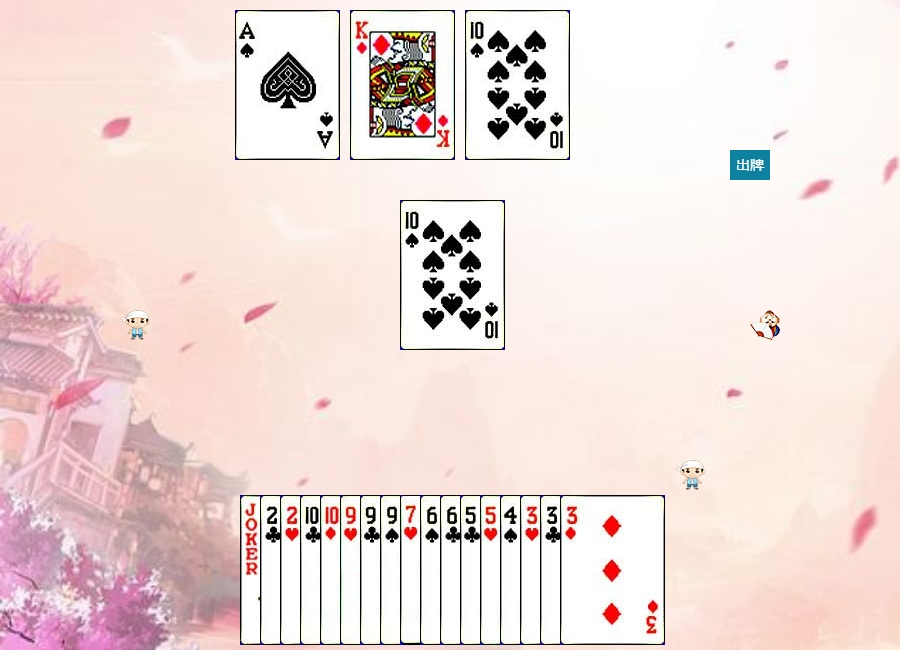10~1: (320, 495, 425, 645)
10~2: (300, 495, 405, 645)
10~4: (465, 10, 570, 160), (400, 200, 505, 350)
13~1: (350, 10, 455, 160)
14~4: (235, 10, 340, 160)
15~2: (260, 495, 365, 645)
15~3: (280, 495, 385, 645)
18~4: (240, 495, 345, 645)
3~1: (560, 495, 665, 645)
3~2: (540, 495, 645, 645)
3~3: (520, 495, 625, 645)
4~4: (500, 495, 605, 645)
5~2: (460, 495, 565, 645)
5~3: (480, 495, 585, 645)
6~2: (440, 495, 545, 645)
6~4: (420, 495, 525, 645)
7~3: (400, 495, 505, 645)
9~2: (360, 495, 465, 645)
9~3: (340, 495, 445, 645)
9~4: (380, 495, 485, 645)
